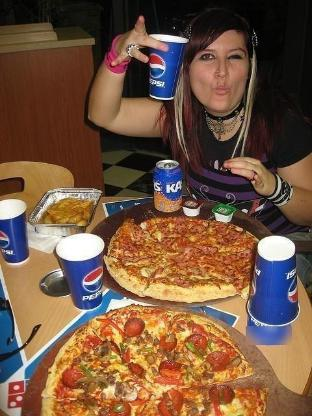Can: (151, 158, 185, 211)
Plastic Cup: (246, 236, 300, 326), (55, 233, 103, 309), (146, 33, 188, 99), (1, 198, 30, 264)
